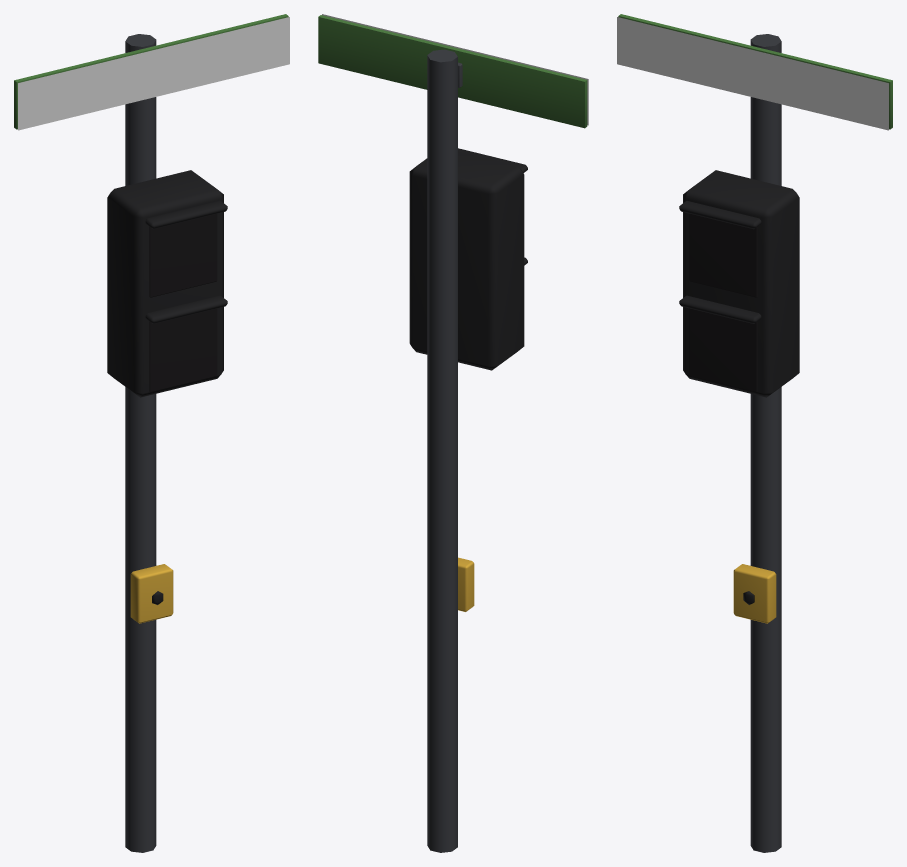
Rendered from PedSignalMIA.fbx.
3 views of the same model, side by side, from view 1: azimuth 30°, elevation 25°; view 2: azimuth 150°, elevation 25°; view 3: azimuth 330°, elevation 25° (orthographic).
Parts seen in each view (by area): view 1: PedSignalMIA; view 2: PedSignalMIA; view 3: PedSignalMIA.
Part boxes in pixels (x1,y1,x2,y2): PedSignalMIA: [14, 14, 289, 852]; PedSignalMIA: [318, 14, 588, 852]; PedSignalMIA: [617, 14, 892, 852].
Size of the model in its own units: 1.2 by 3.4 by 0.4354.
